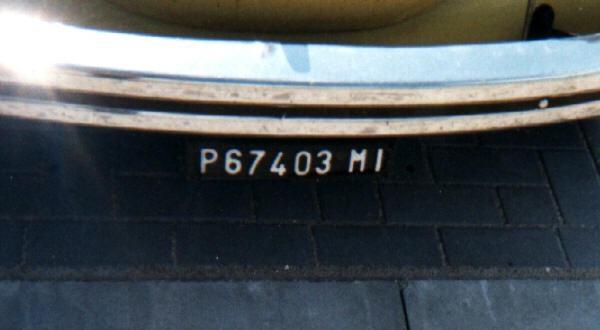license_plate: (182, 136, 391, 182)
